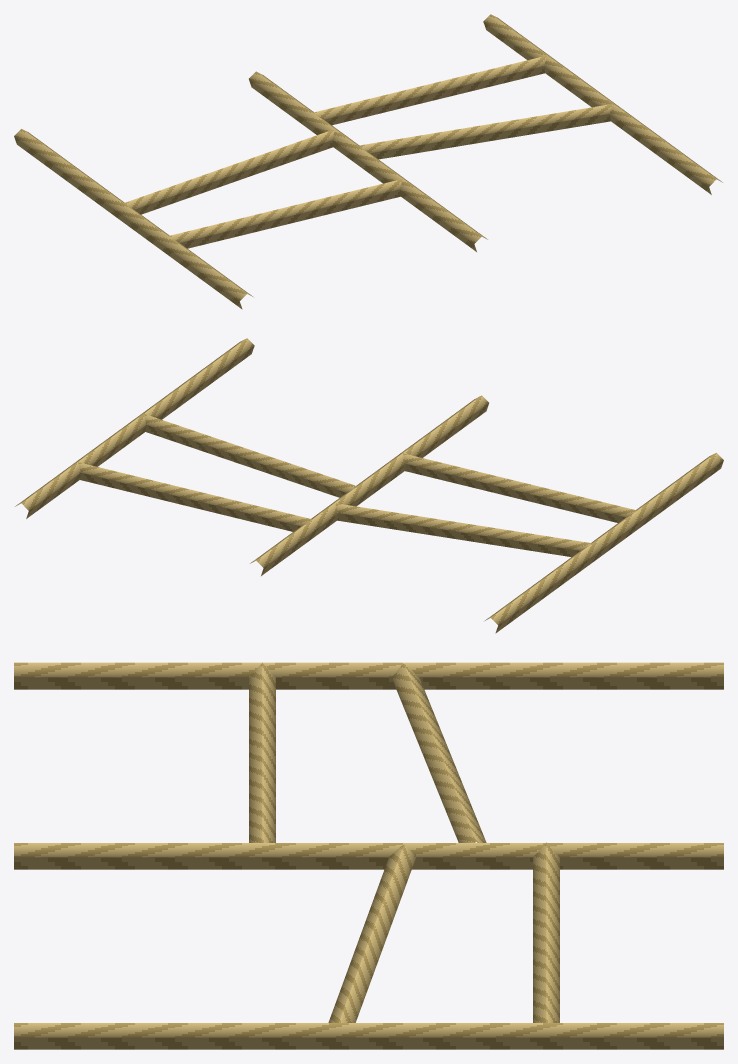
3 views of the same model, one above another, from view 1: azimuth 30°, elevation 25°; view 2: azimuth 150°, elevation 25°; view 3: azimuth 270°, elevation 25° (orthographic). The views are drawn at different scales.
Size of the model in its own units: 12.38 by 0.3613 by 10.
Materials: 1 (1 with a texture image).
